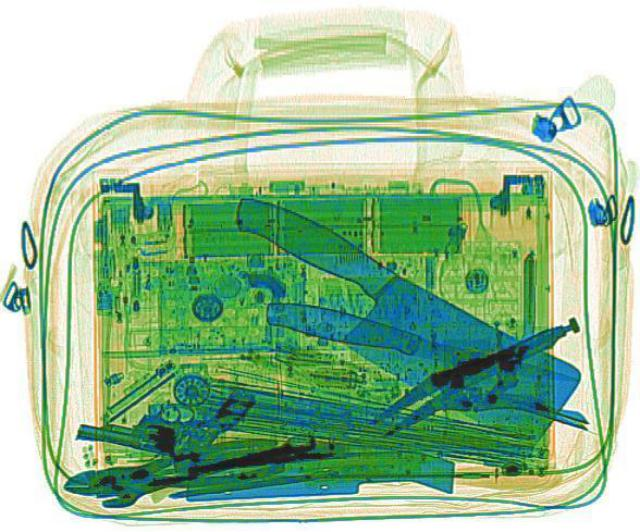Gun: (73, 365, 255, 464)
Knife: (182, 183, 594, 446), (260, 294, 580, 389)
Pliers: (57, 432, 283, 508)
Wrench: (90, 427, 320, 509)
